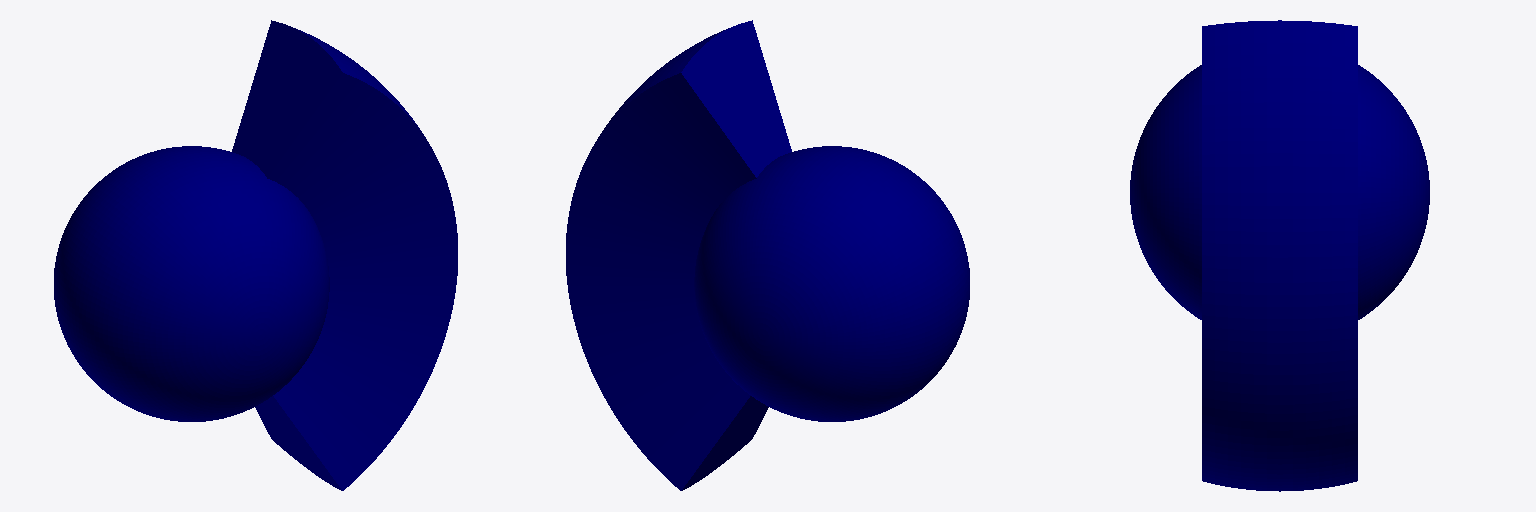
URDF robot description (myfirst):
<?xml version="1.0"?>
<robot name="myfirst">

  <material name="blue">
    <color rgba="0 0 0.5 0.25"/>
  </material>

  <link name="drone">
    <visual>
      <origin rpy="0 0 -1.570796" xyz="0 0 0"/>
      <geometry>
        <mesh filename="package://spherical-radar-drone/mesh/drone_radar_dome_fine_2x.stl"/>
      </geometry>
      <material name="blue"/>
    </visual>
  </link>
</robot>

--- Facts derived from the render (not from the file) ---
Views: 3 orthographic renders of the robot side by side, from view 1: azimuth 30°, elevation 25°; view 2: azimuth 150°, elevation 25°; view 3: azimuth 270°, elevation 25°.
Robot: myfirst — 1 links, 0 joints (none); root link drone; default pose: every joint at zero.
Links seen in each view (by area): view 1: drone; view 2: drone; view 3: drone.
Boxes of the visible links, x1,y1,x2,y2 form: drone: [54, 20, 457, 490]; drone: [566, 20, 969, 490]; drone: [1130, 20, 1429, 491].
Size in the robot's own frame: 30 by 20 by 34.64 metres.
1 mesh visuals loaded from 1 distinct referenced files (1 binary STL).